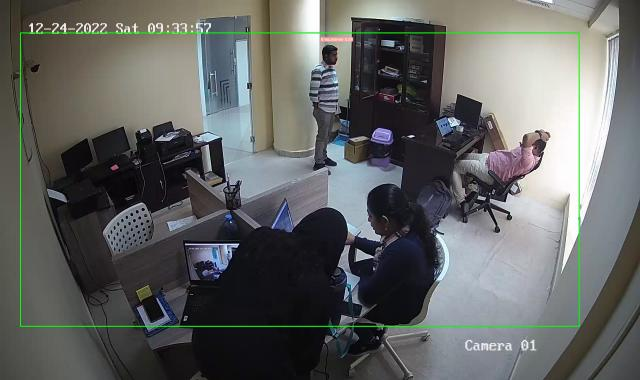no_hairnet: (367, 185, 407, 234), (311, 207, 347, 257), (322, 44, 338, 66)
